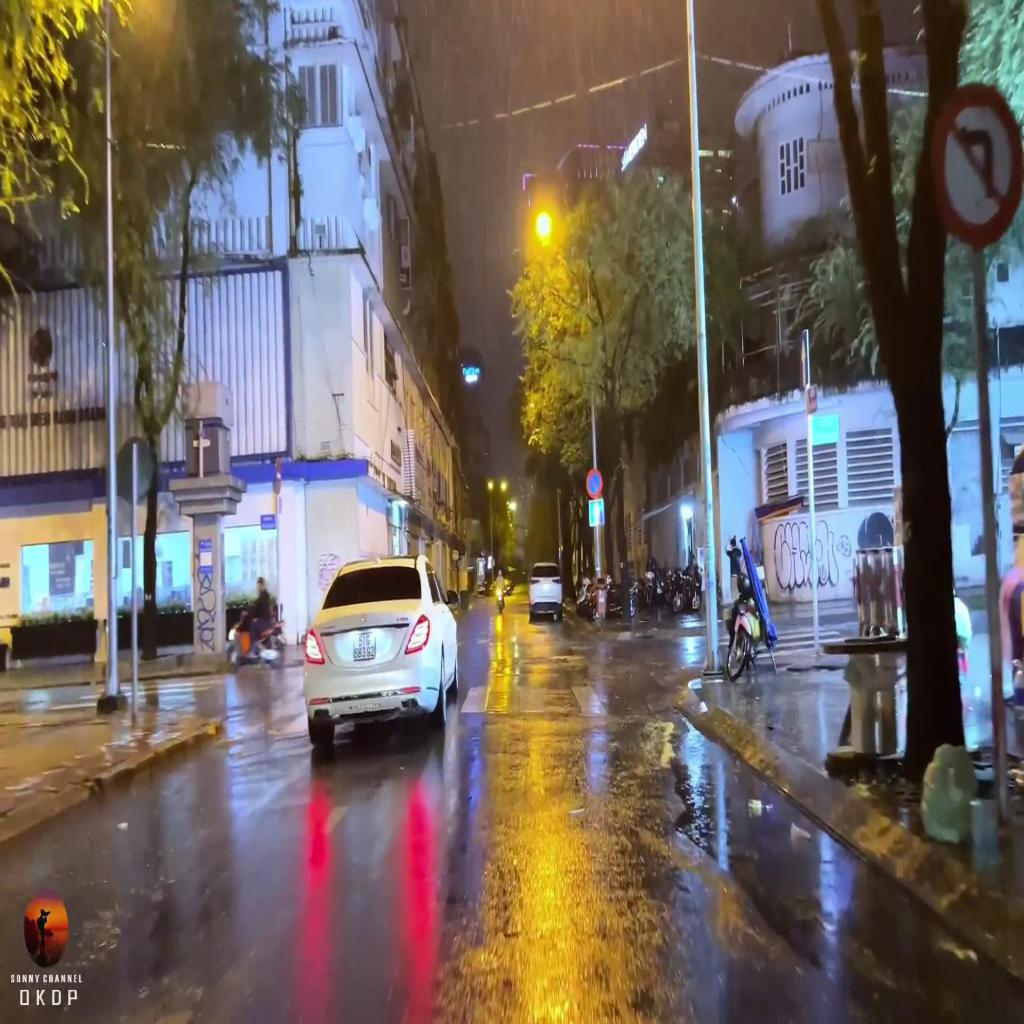cam_do_xe: (586, 468, 603, 498)
cam_re_trai: (932, 80, 1023, 246)
duong_mot_chieu: (588, 500, 604, 527)
